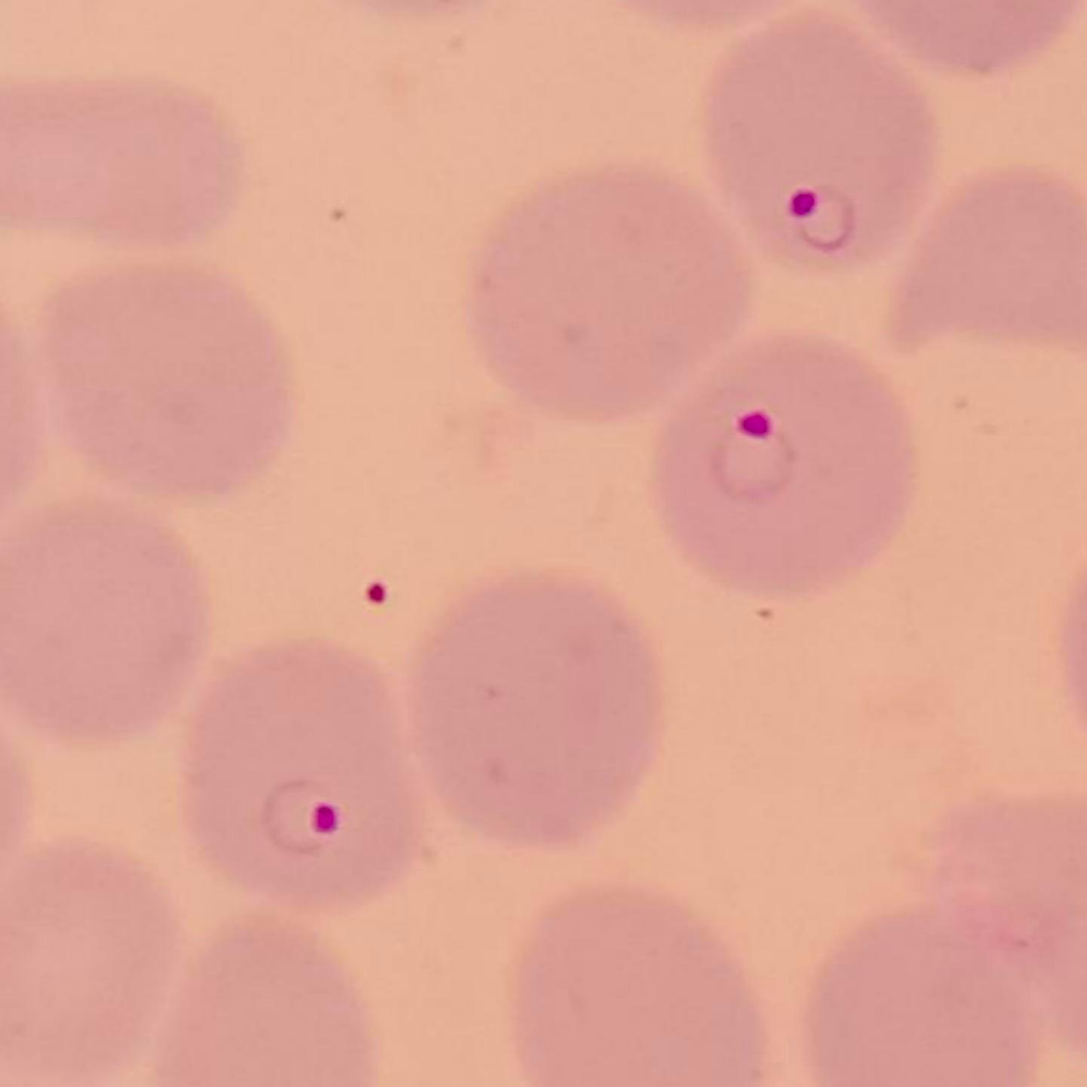Infected: (651, 338, 910, 606), (186, 637, 416, 907), (704, 18, 940, 272)
Uninfected: (473, 159, 758, 424), (412, 567, 664, 844), (43, 260, 287, 497), (0, 499, 216, 745)
